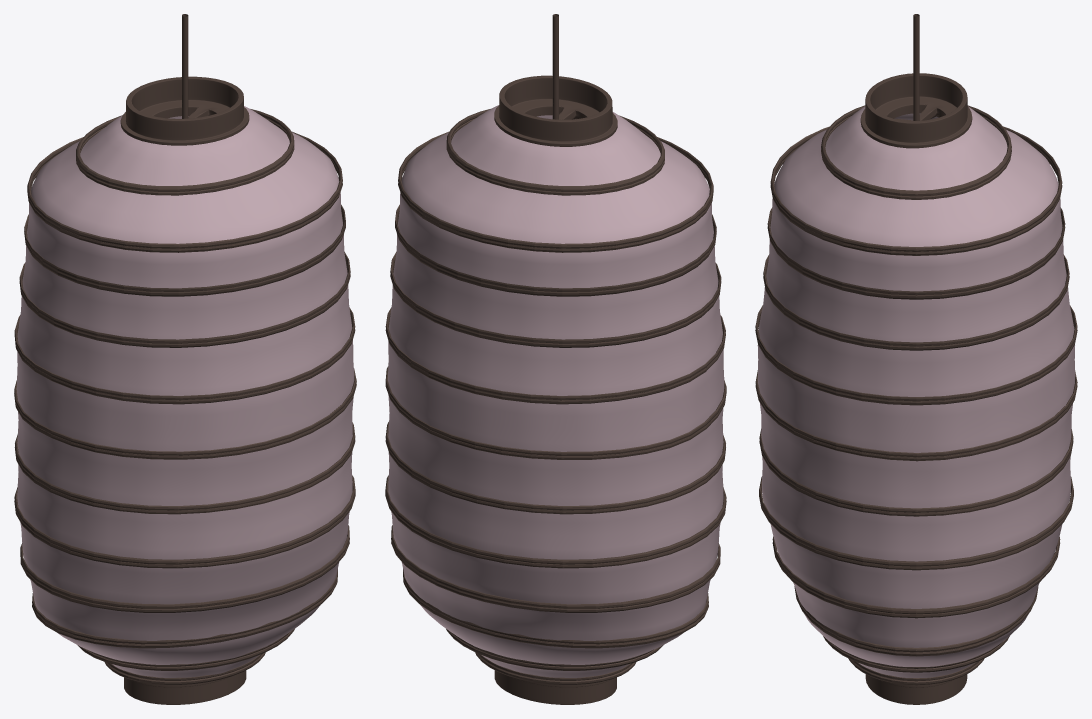
The model's file is Luna_Japanantaarn.fbx.
3 renders of one model, left to right at view 1: azimuth 30°, elevation 25°; view 2: azimuth 150°, elevation 25°; view 3: azimuth 270°, elevation 25°, orthographic.
Visible parts, largest first — view 1: Sphere, Sphere.002, Sphere.003, Sphere.001, Sphere.004; view 2: Sphere, Sphere.002, Sphere.003, Sphere.001, Sphere.004; view 3: Sphere, Sphere.002, Sphere.003, Sphere.001, Sphere.004.
Part boxes in pixels (x1,y1,x2,y2): Sphere: (16, 106, 354, 677); Sphere.002: (14, 109, 356, 684); Sphere.003: (120, 76, 249, 145); Sphere.001: (124, 670, 246, 704); Sphere.004: (182, 14, 188, 118); Sphere: (388, 105, 724, 677); Sphere.002: (385, 109, 726, 684); Sphere.003: (494, 75, 617, 146); Sphere.001: (494, 670, 616, 704); Sphere.004: (552, 14, 558, 119); Sphere: (757, 106, 1075, 677); Sphere.002: (755, 105, 1077, 685); Sphere.003: (860, 73, 972, 148); Sphere.001: (865, 674, 967, 704); Sphere.004: (913, 14, 919, 120).
Size of the model in its own units: 0.6814 by 1.43 by 0.6317.
